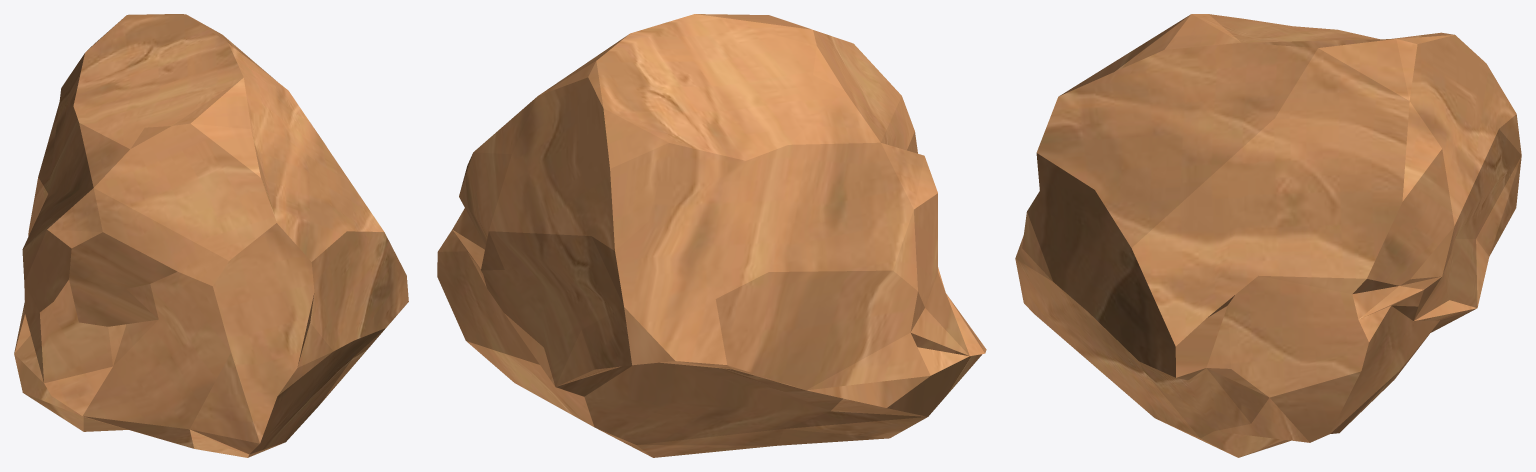
Rendered from rock.2.glb.
3 views of the same model, side by side, from view 1: azimuth 30°, elevation 25°; view 2: azimuth 150°, elevation 25°; view 3: azimuth 270°, elevation 25° (orthographic). The views are drawn at different scales.
Visible parts, largest first — view 1: Cube; view 2: Cube; view 3: Cube.
Part boxes in pixels (x1=…): Cube: x1=14, y1=14, x2=408, y2=457; Cube: x1=437, y1=14, x2=986, y2=457; Cube: x1=1015, y1=14, x2=1521, y2=457.
Bounding box in the file's own units: 2.31 × 2.12 × 2.43.
Materials: 1 (1 with a texture image).
